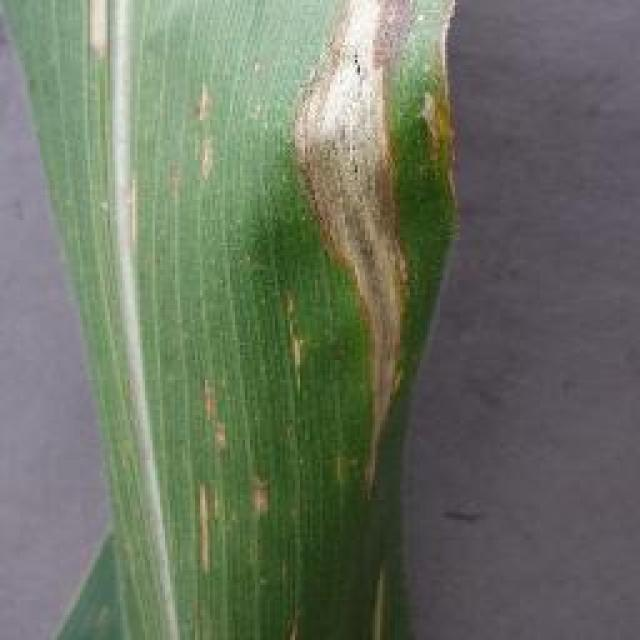Corn___Northern_Leaf_Blight: (0, 0, 488, 640)
